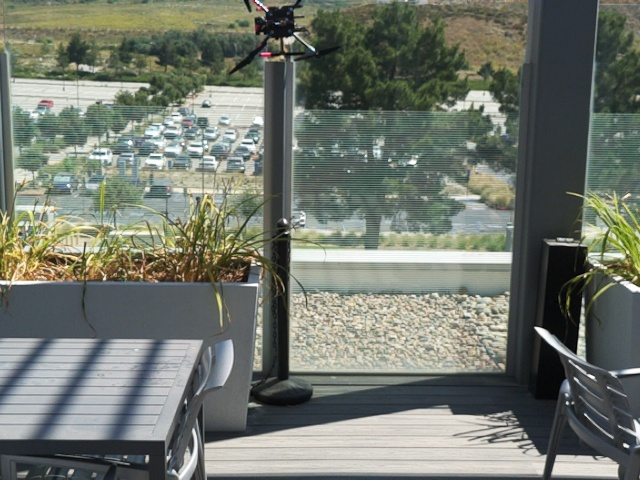quadcopter: (211, 1, 357, 82)
